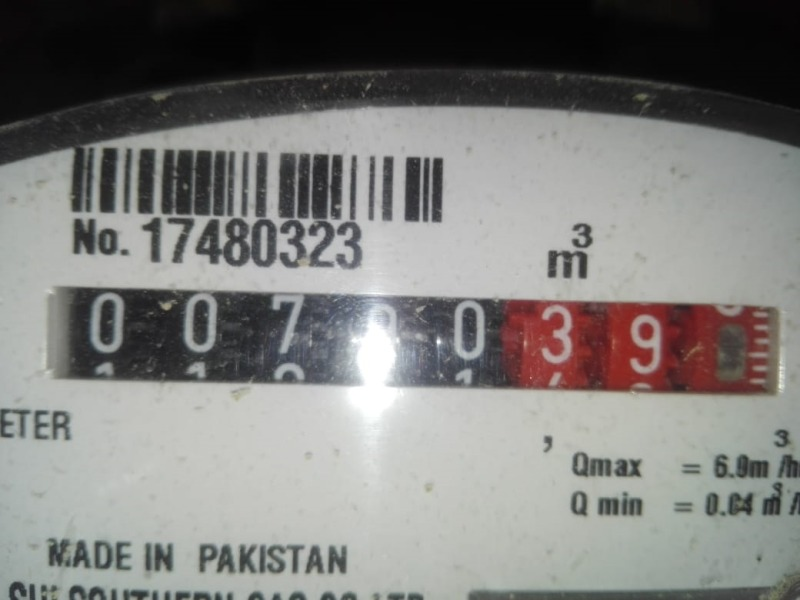ssgc: (44, 289, 783, 398)
